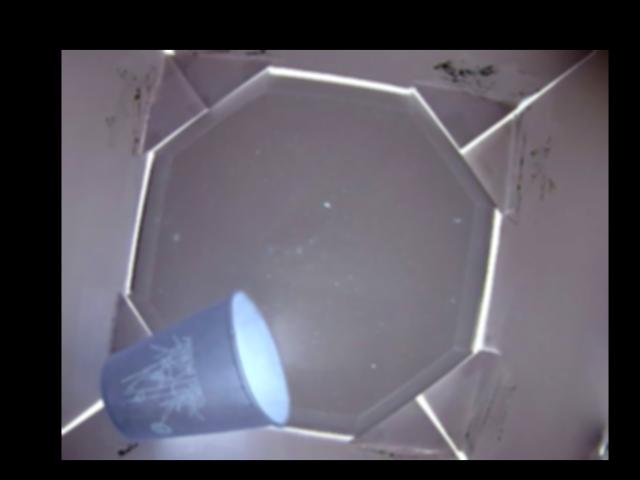Cup: (100, 290, 290, 442)
